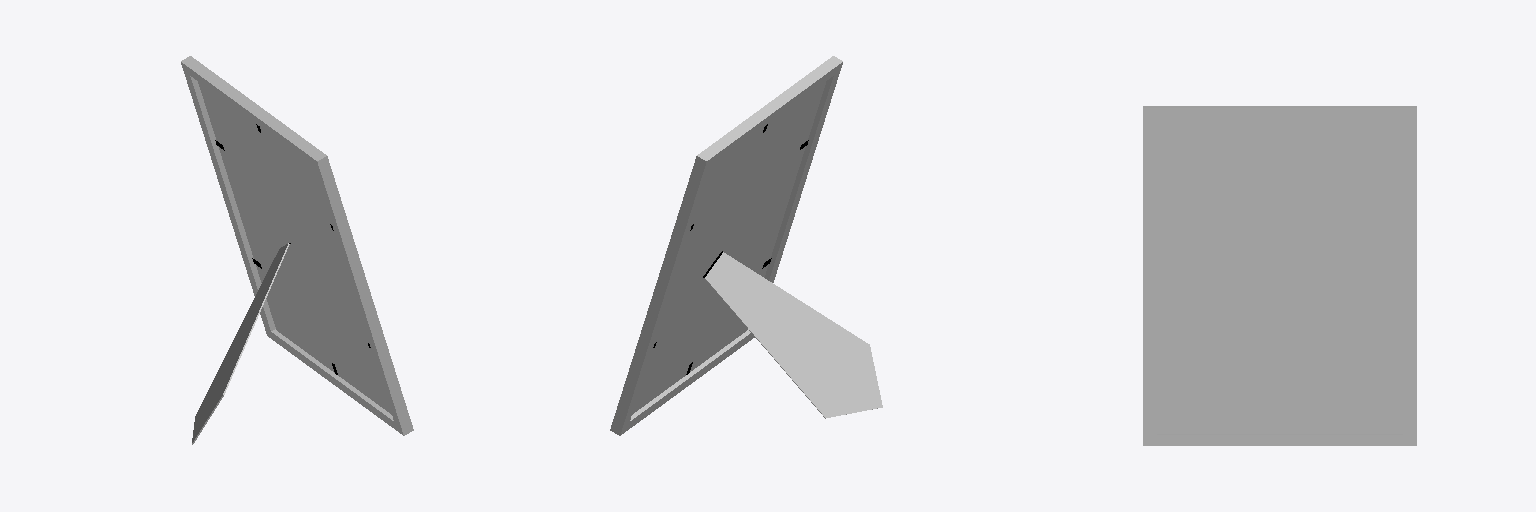
File: marco.obj
3 views of the same model, side by side, from view 1: azimuth 30°, elevation 25°; view 2: azimuth 150°, elevation 25°; view 3: azimuth 270°, elevation 25° (orthographic).
Parts seen in each view (by area): view 1: Plane.002; view 2: Plane.002; view 3: Plane.002.
Boxes of the visible parts, x1=… form: Plane.002: x1=181, y1=56, x2=413, y2=444; Plane.002: x1=610, y1=56, x2=882, y2=435; Plane.002: x1=1143, y1=106, x2=1416, y2=445.
Bounding box in the file's own units: 1.68 × 2.68 × 2.22.